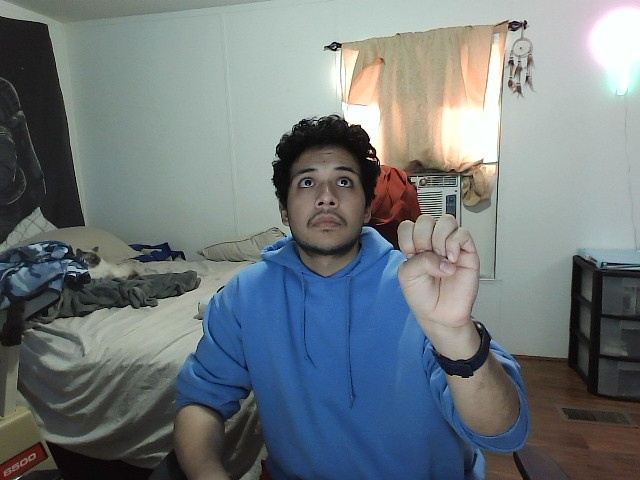E: (393, 209, 487, 326)
